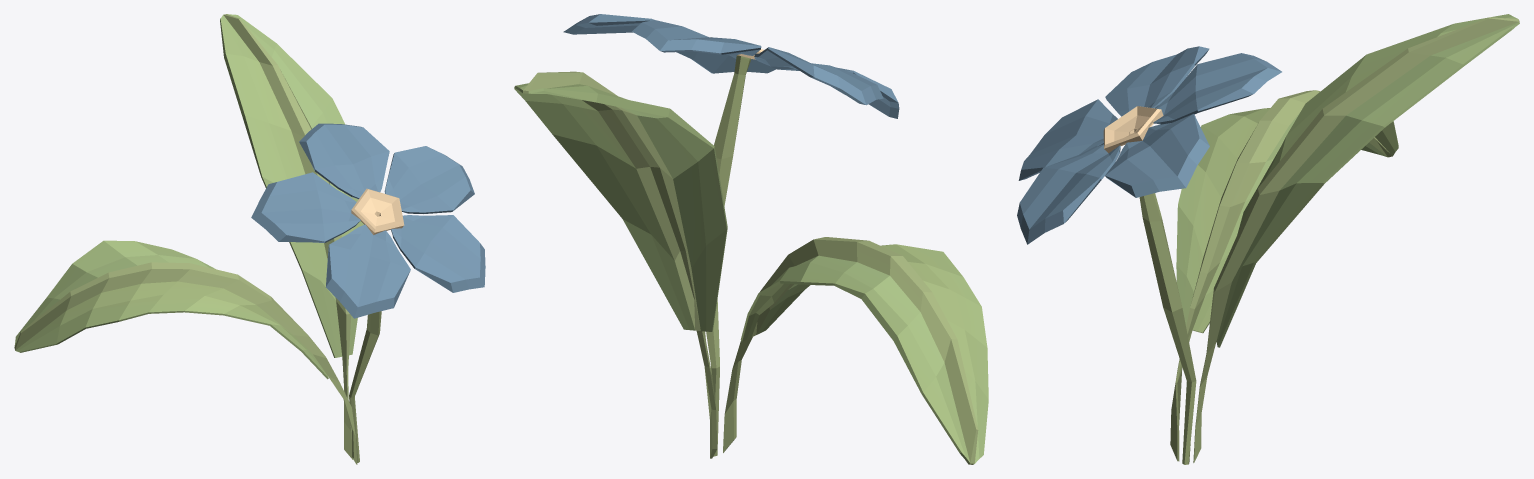
The model's file is Primrose_Blue.fbx.
3 renders of one model, left to right at view 1: azimuth 30°, elevation 25°; view 2: azimuth 150°, elevation 25°; view 3: azimuth 270°, elevation 25°, orthographic. The views are drawn at different scales.
Parts seen in each view (by area): view 1: Primrose_Blue; view 2: Primrose_Blue; view 3: Primrose_Blue.
Part boxes in pixels (box(x1,y1,x2,y2)): Primrose_Blue: box(14, 14, 485, 464); Primrose_Blue: box(514, 14, 988, 464); Primrose_Blue: box(1017, 14, 1519, 464).
Size of the model in its own units: 41.92 by 38.52 by 39.26.
